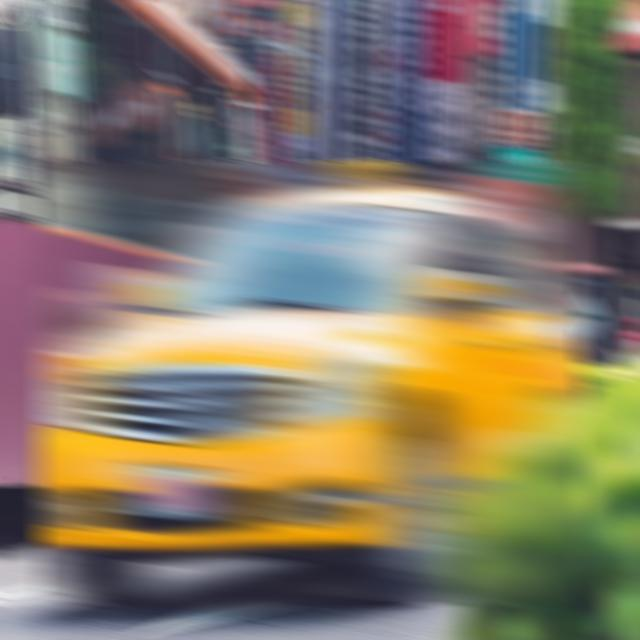Taxi: (36, 160, 584, 604)
